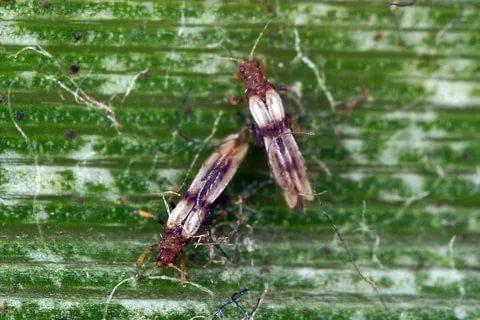tiny_pests: (192, 14, 373, 216), (105, 122, 260, 281)
